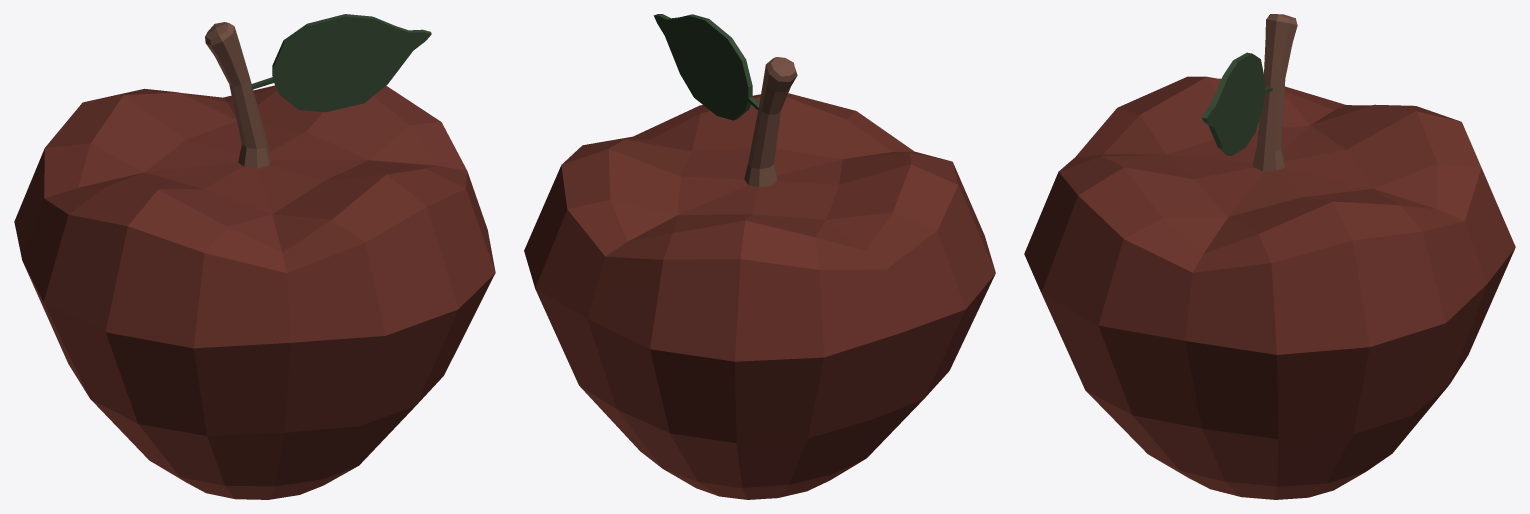
Rendered from allWithAnim_2.glb.
3 renders of one model, left to right at view 1: azimuth 30°, elevation 25°; view 2: azimuth 150°, elevation 25°; view 3: azimuth 270°, elevation 25°, orthographic. The views are drawn at different scales.
Visible parts, largest first — view 1: Apple; view 2: Apple; view 3: Apple.
Part boxes in pixels (bbox=[...]): Apple: bbox=[14, 14, 495, 499]; Apple: bbox=[524, 14, 995, 499]; Apple: bbox=[1024, 14, 1515, 499].
Size of what is drawn, in the model's own units: 0.8449 by 0.8517 by 0.8424.
